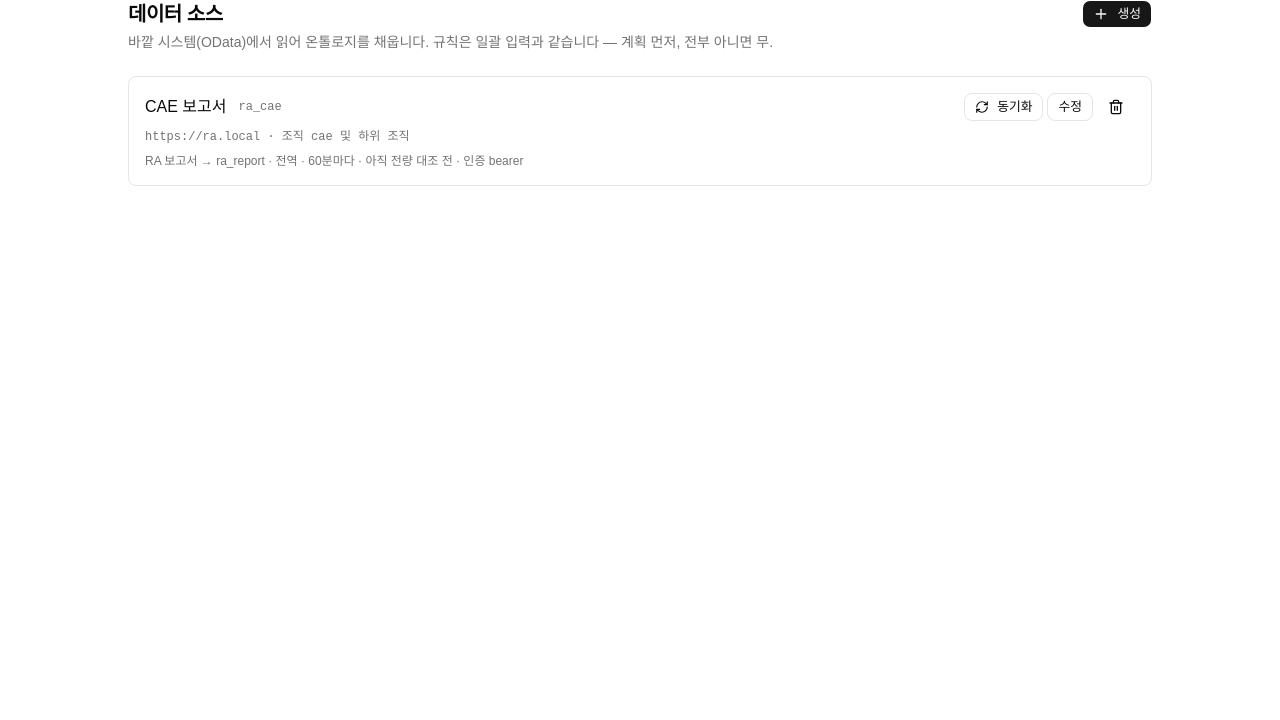
RA 보고서 소스 › 0건일 때 단계가 finalized 면 안내가 선다 — 발행본만이면 이유와 바꾸는 길을 말한다
Step 1. Click the button "동기화" → click(1004, 107), box [964,93,1043,121]
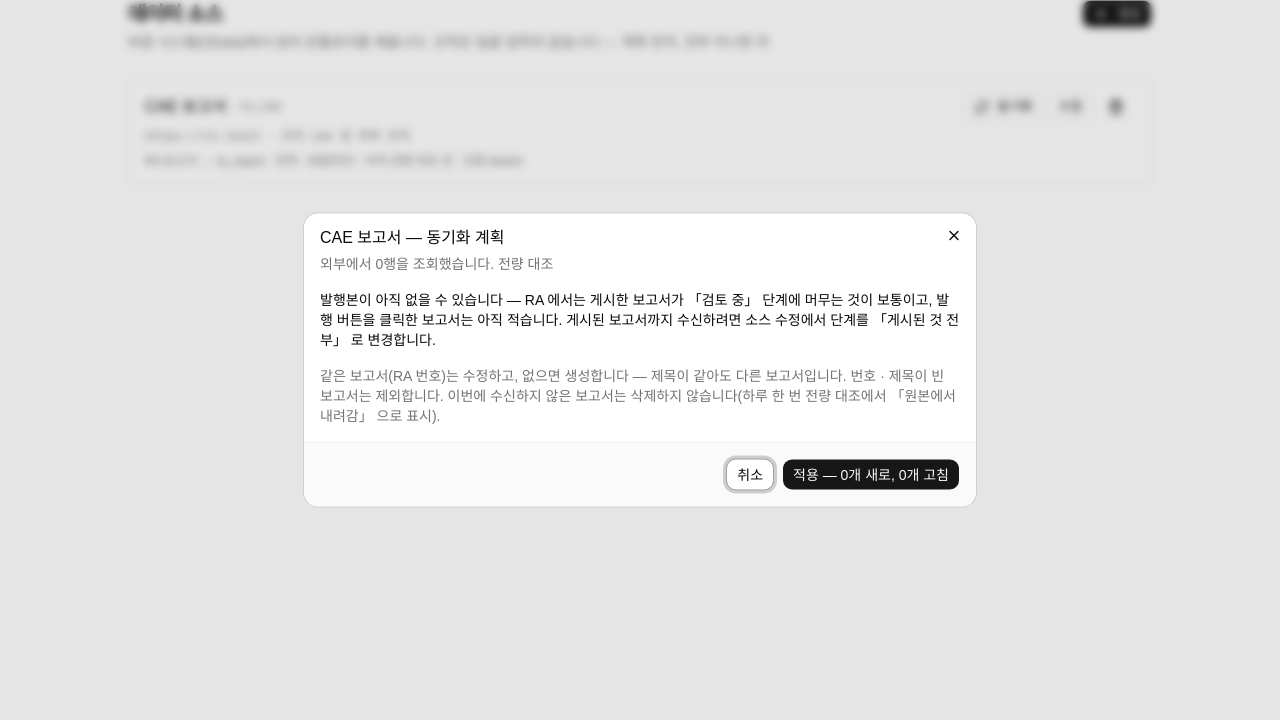
Check: the dialog is shown, box [304,214,976,506]
